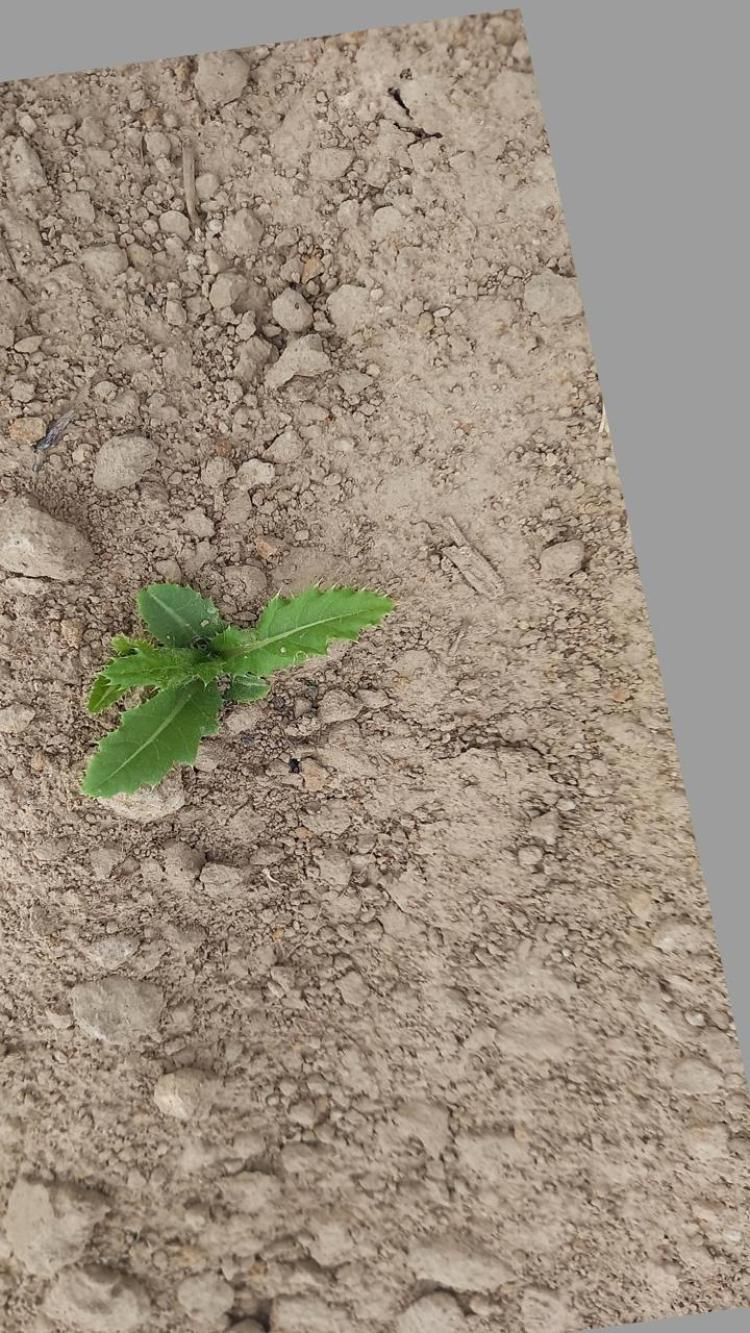bodyak: (54, 581, 398, 814)
